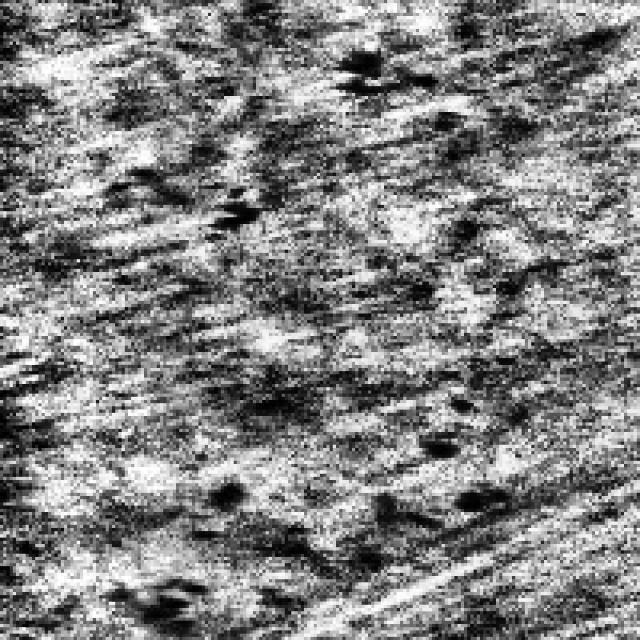Crazing: (102, 458, 320, 636), (115, 38, 256, 253)
